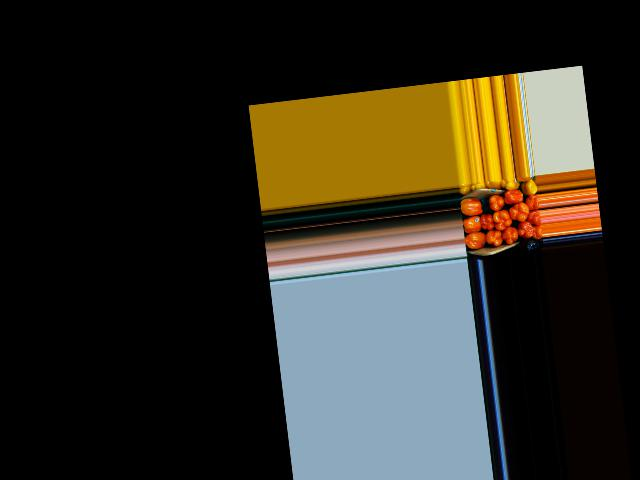bell_pepper: (498, 178, 520, 191)
